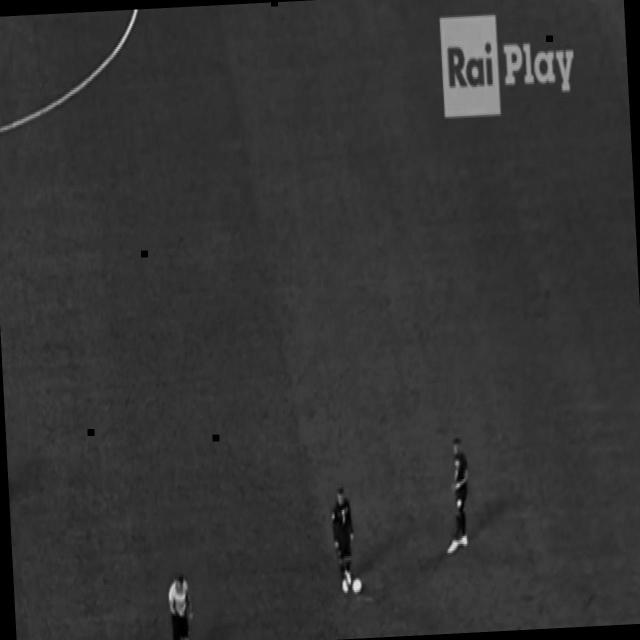ball: (350, 575, 363, 599)
player-white: (326, 481, 366, 599), (439, 433, 475, 562), (164, 566, 196, 640)
